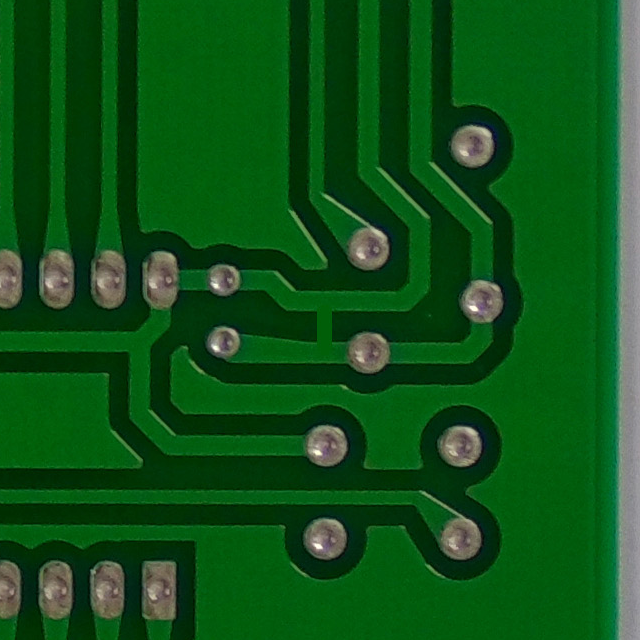short: (287, 279, 354, 361)
